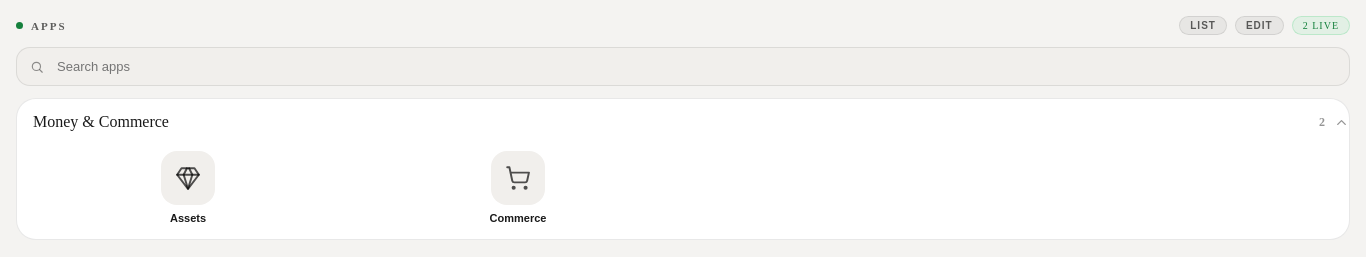
Test: apps — list view shows what each app is for › search results are a list, so a match on the description shows it
In the field labelled "Search apps": (683, 66) x1=16 y1=47 x2=1350 y2=86, type "shop"
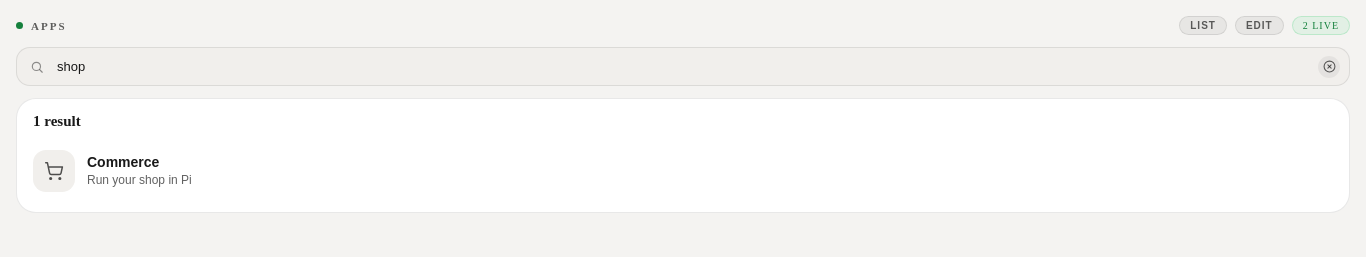
Expected: the text "Commerce" is shown, x1=87 y1=154 x2=159 y2=170
Expected: the text "Run your shop in Pi" is shown, x1=87 y1=173 x2=192 y2=187
Expected: the button "Assets" is gone
